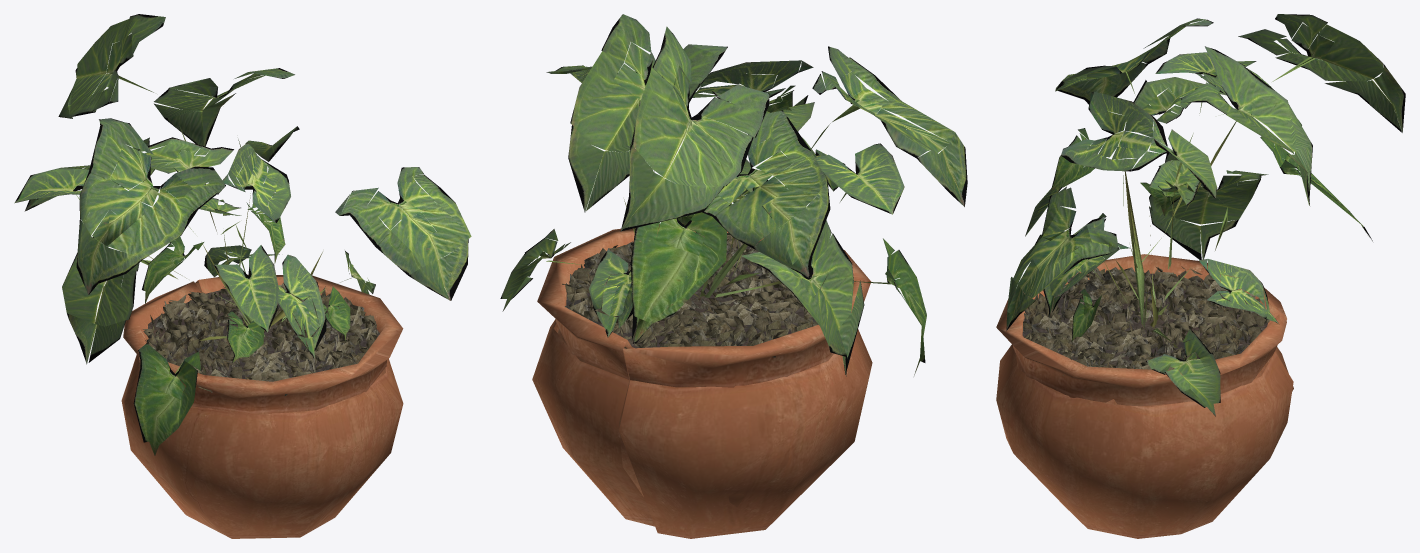
File: potted_plant_02.glb
3 views of the same model, side by side, from view 1: azimuth 30°, elevation 25°; view 2: azimuth 150°, elevation 25°; view 3: azimuth 270°, elevation 25° (orthographic). The views are drawn at different scales.
Visible parts, largest first — view 1: potted_plant_02; view 2: potted_plant_02; view 3: potted_plant_02.
Boxes of the visible parts, box(x1,y1,x2,y2) form: potted_plant_02: box(14, 14, 471, 538); potted_plant_02: box(500, 14, 967, 538); potted_plant_02: box(996, 14, 1405, 538).
Size of the model in its own units: 0.6977 by 0.8422 by 0.6579.
Materials: 2 (2 with a texture image).
